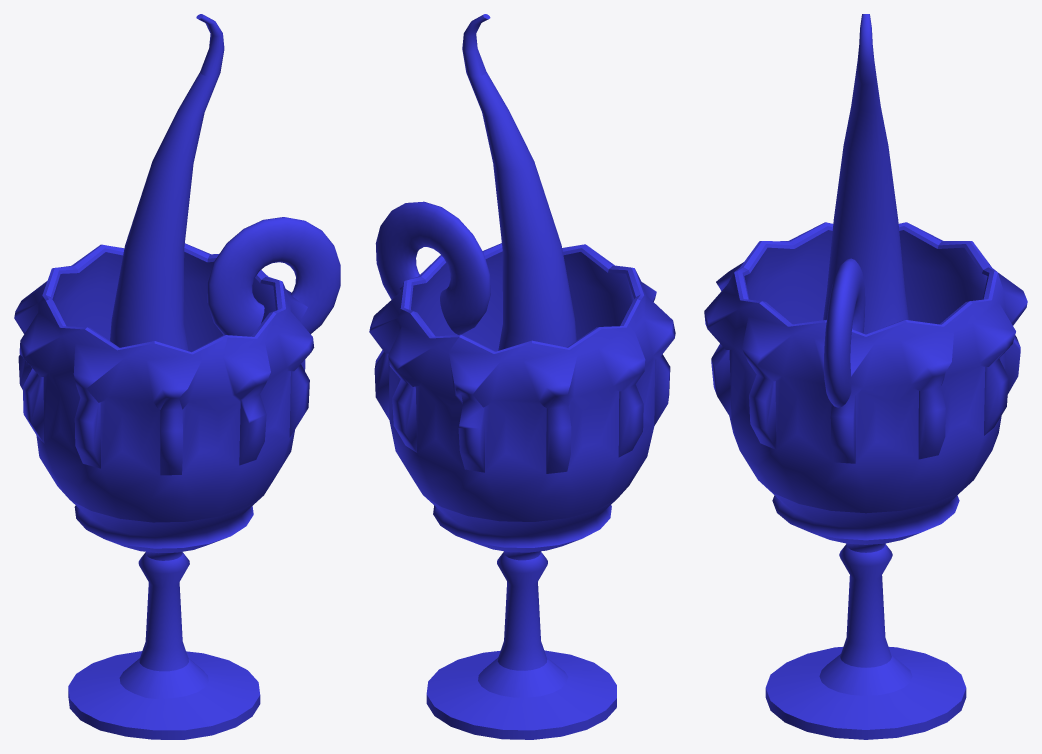
Rendered from SM_TentaGlass.fbx.
3 renders of one model, left to right at view 1: azimuth 30°, elevation 25°; view 2: azimuth 150°, elevation 25°; view 3: azimuth 270°, elevation 25°, orthographic. The views are drawn at different scales.
Parts seen in each view (by area): view 1: TentaGlass01; view 2: TentaGlass01; view 3: TentaGlass01.
Part boxes in pixels (box(x1,y1,x2,y2)): TentaGlass01: box(14, 14, 340, 739); TentaGlass01: box(369, 14, 675, 739); TentaGlass01: box(704, 14, 1027, 739).
Size of the model in its own units: 0.5591 by 1.24 by 0.5159.
